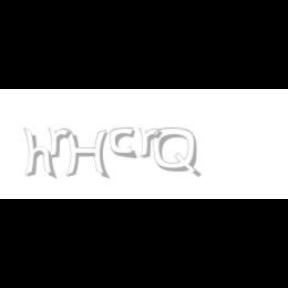H: (63, 128, 109, 180)
Q: (153, 128, 199, 178)
c: (110, 128, 138, 160)
h: (23, 128, 58, 180)
r: (138, 128, 166, 158), (48, 128, 74, 158)
